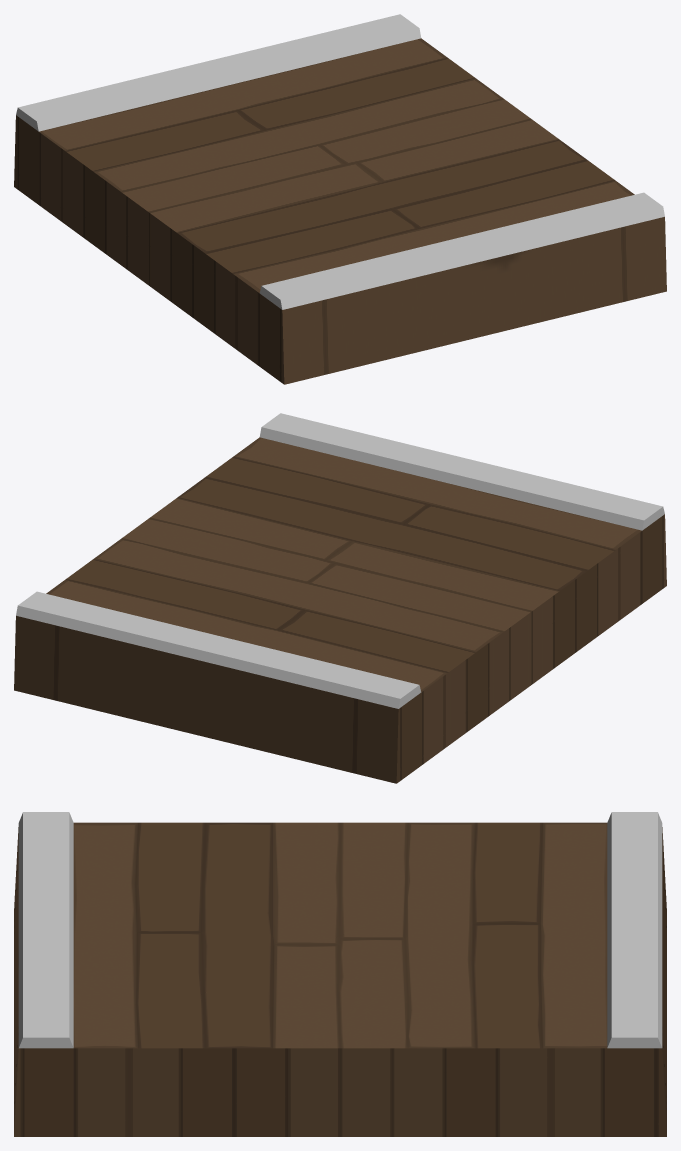
File: SM_Env_Path_01.fbx
3 renders of one model, top to bottom at view 1: azimuth 30°, elevation 25°; view 2: azimuth 150°, elevation 25°; view 3: azimuth 270°, elevation 25°, orthographic. The views are drawn at different scales.
Parts seen in each view (by area): view 1: SM_Env_Path_01; view 2: SM_Env_Path_01; view 3: SM_Env_Path_01.
Part boxes in pixels (<box>): SM_Env_Path_01: <box>14,14,666,384</box>; SM_Env_Path_01: <box>14,413,666,783</box>; SM_Env_Path_01: <box>14,812,666,1136</box>.
Size of the model in its own units: 250 by 51.31 by 306.
